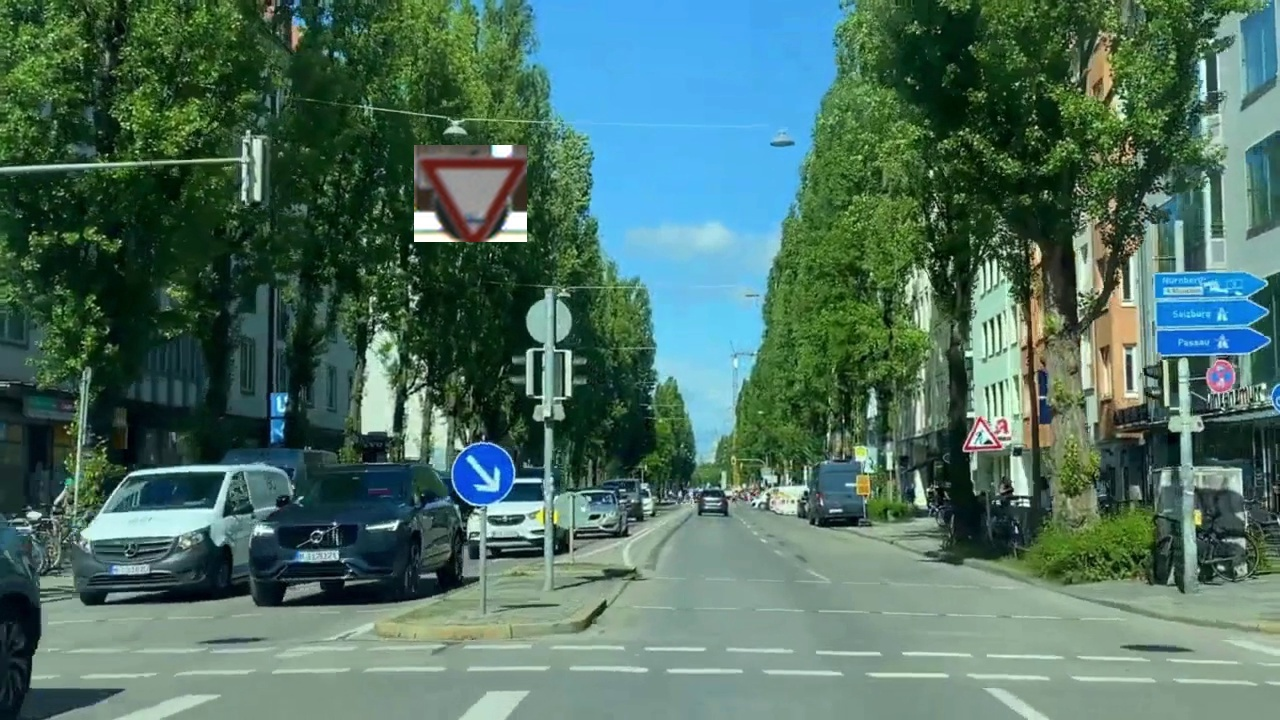Yield: (414, 145, 527, 242)
